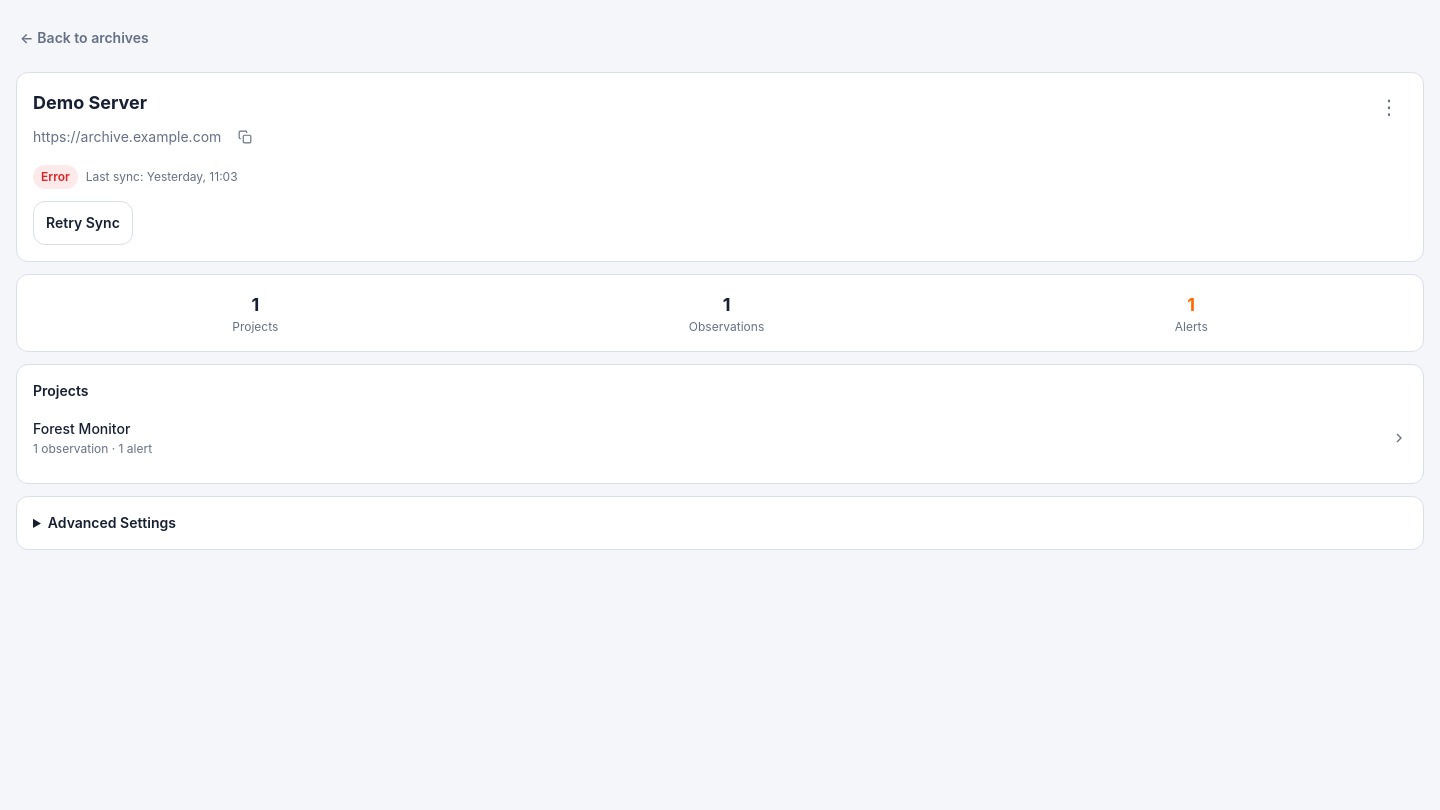
Test: ArchiveServerDetail › shows technical metadata, stale warning, and error details in advanced settings
Click the heading "Advanced Settings".
click(112, 522)  # box x1=48 y1=514 x2=176 y2=531
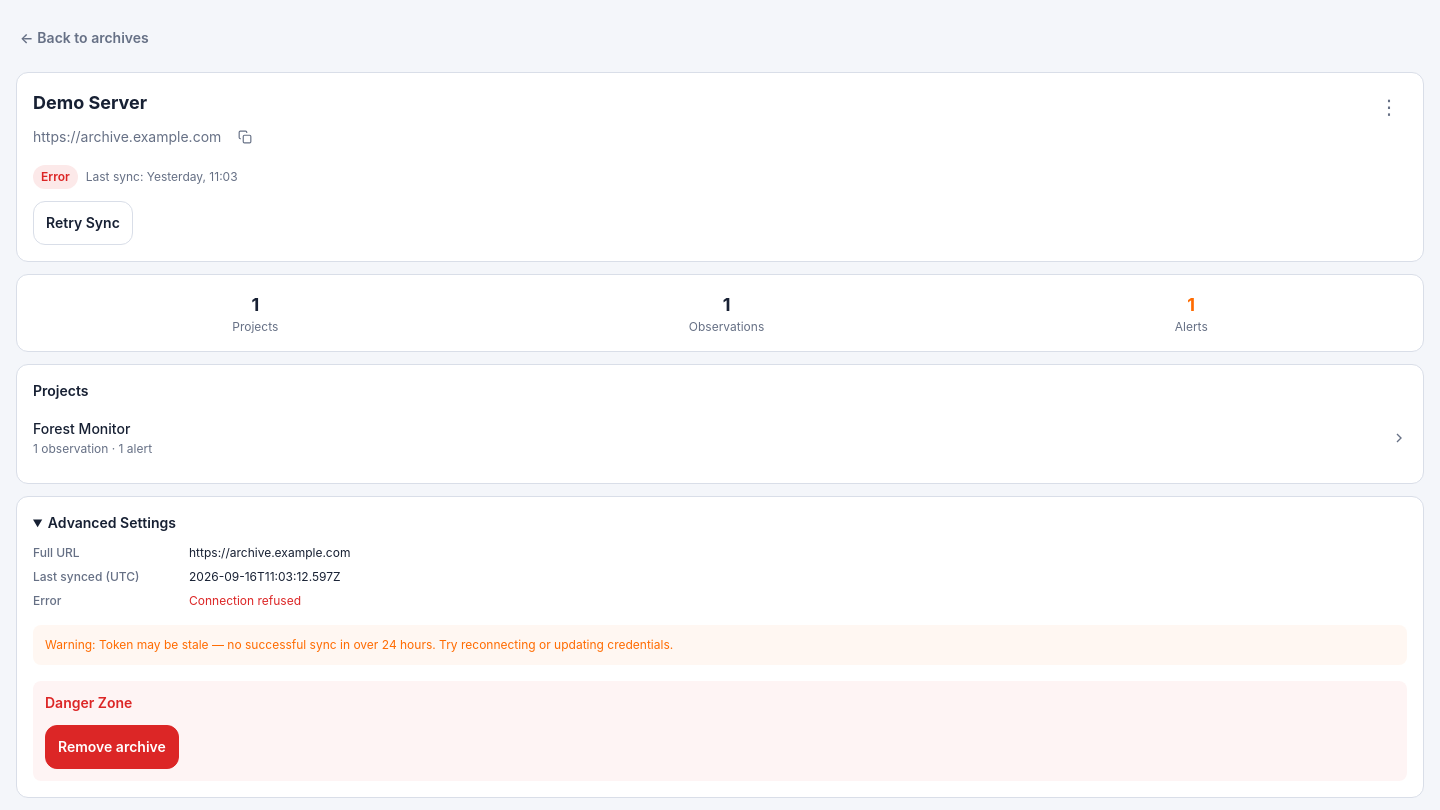
Expected: the text "Full URL" is shown, x1=33 y1=545 x2=80 y2=560
Expected: the text "Last synced (UTC)" is shown, x1=33 y1=569 x2=140 y2=584
Expected: the text "Token may be stale" is shown, x1=45 y1=637 x2=673 y2=652
